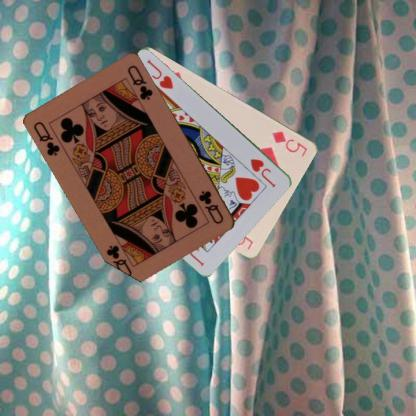5d: (269, 128, 309, 158)
Jh: (248, 155, 277, 189)
Qc: (31, 118, 62, 158), (196, 188, 225, 226)
